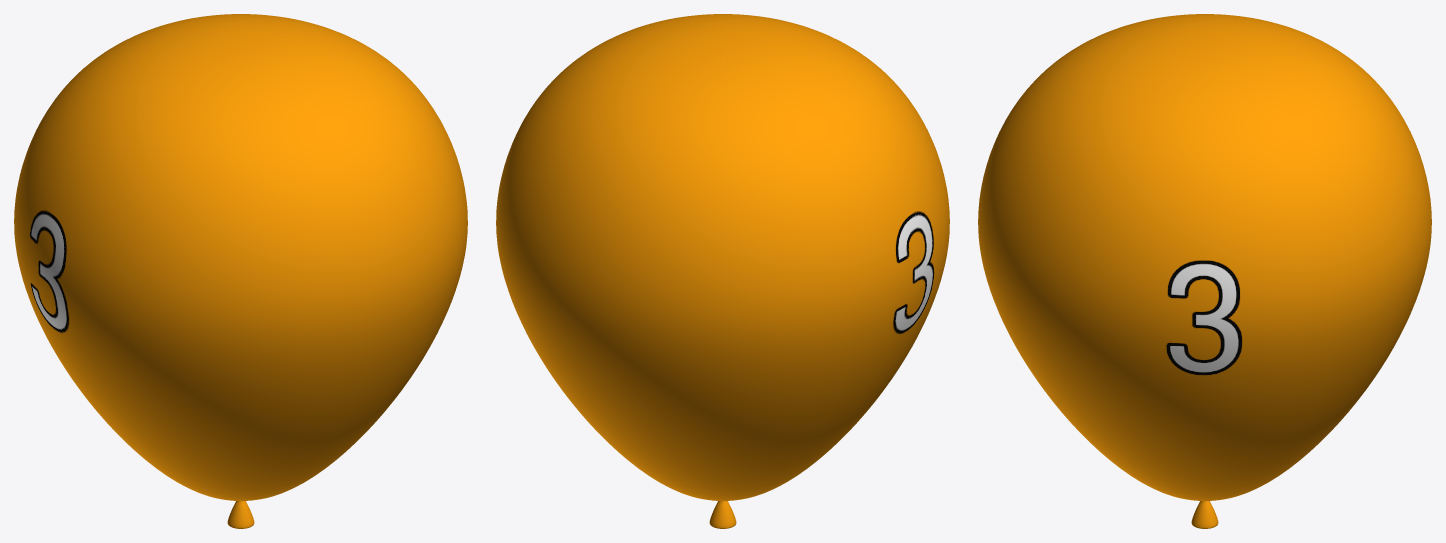
The model's file is third arm button.fbx.
3 renders of one model, left to right at view 1: azimuth 30°, elevation 25°; view 2: azimuth 150°, elevation 25°; view 3: azimuth 270°, elevation 25°, orthographic.
Parts seen in each view (by area): view 1: Sphere; view 2: Sphere; view 3: Sphere.
Boxes of the visible parts, x1,y1,x2,y2 form: Sphere: (14,14,467,528); Sphere: (496,14,949,528); Sphere: (978,14,1431,528).
Bounding box in the file's own units: 197 × 231 × 197.
Materials: 1 (1 with a texture image).
